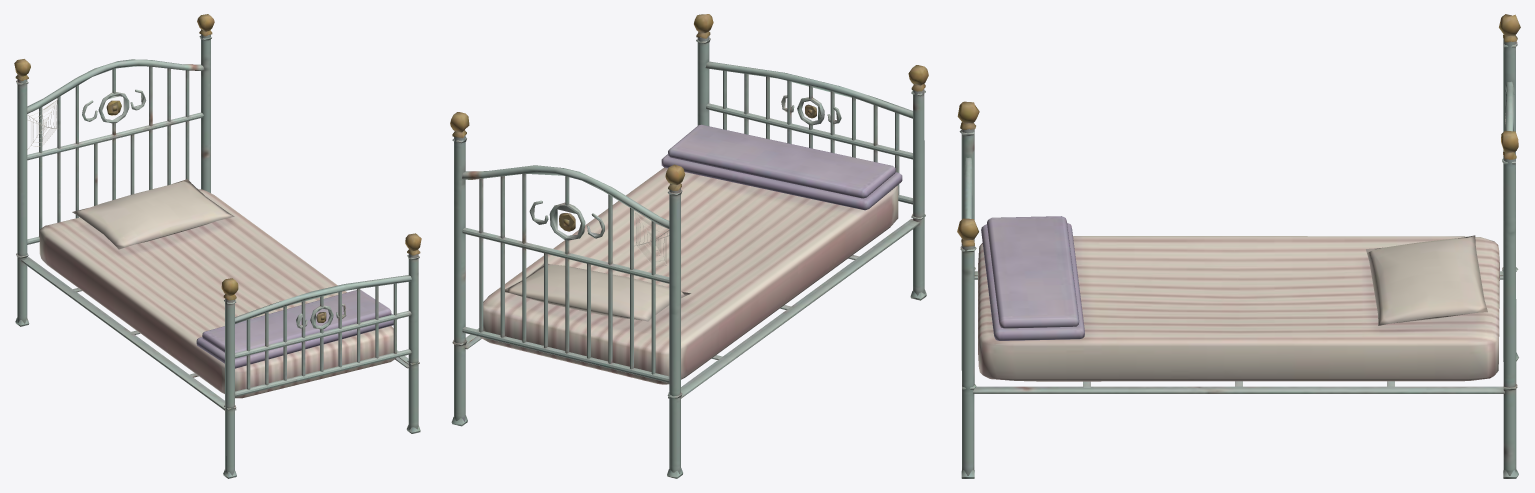
Rendered from old-iron-bed.glb.
3 views of the same model, side by side, from view 1: azimuth 30°, elevation 25°; view 2: azimuth 150°, elevation 25°; view 3: azimuth 270°, elevation 25° (orthographic). The views are drawn at different scales.
Parts seen in each view (by area): view 1: old-iron-bed_body, old-iron-bed_web; view 2: old-iron-bed_body, old-iron-bed_web; view 3: old-iron-bed_body.
Part boxes in pixels (x1,y1,x2,y2): old-iron-bed_body: (14,14,421,478); old-iron-bed_web: (27,98,58,149); old-iron-bed_body: (450,14,928,478); old-iron-bed_web: (634,210,669,269); old-iron-bed_body: (957,14,1520,478).
Size of the model in its own units: 1.08 by 1.37 by 2.04.
3 materials, 1 textured.
